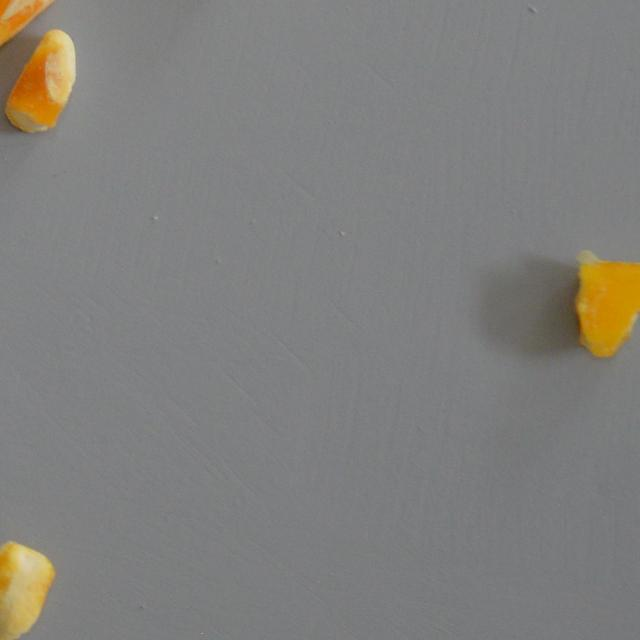dañado: (0, 29, 83, 139)
pelicula: (559, 248, 640, 360), (0, 539, 56, 639), (0, 0, 42, 56)
